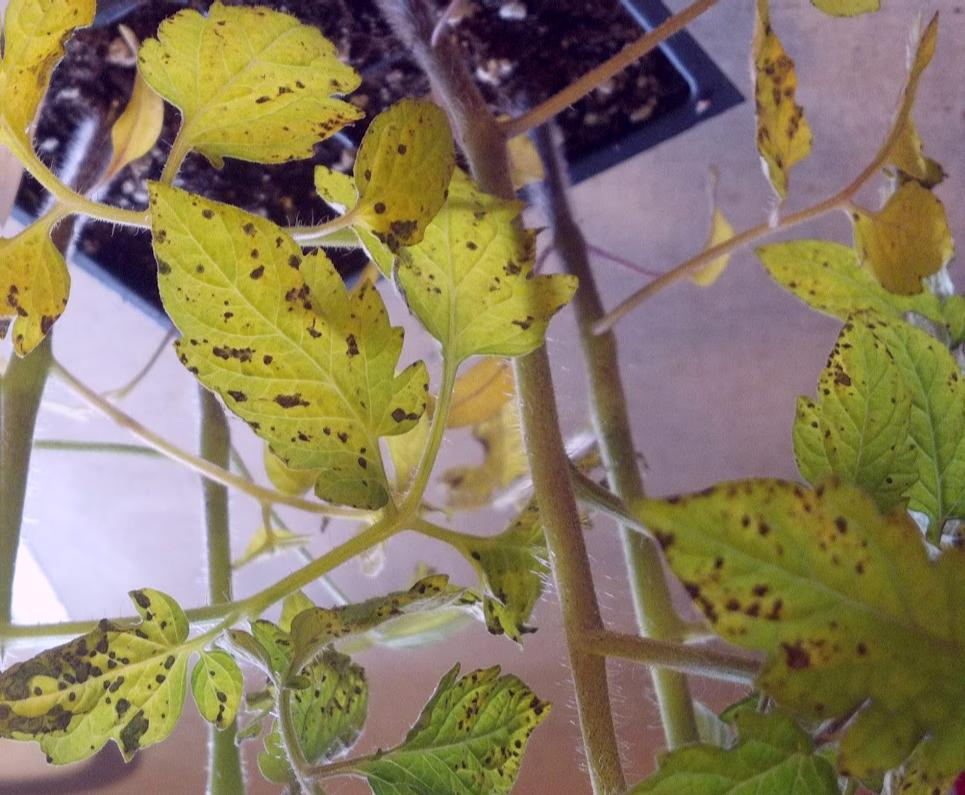Tomato Septoria leaf spot: (618, 472, 965, 777), (128, 160, 414, 516), (760, 303, 965, 545), (128, 0, 369, 187), (385, 170, 599, 376), (0, 575, 199, 781), (335, 675, 562, 795)
